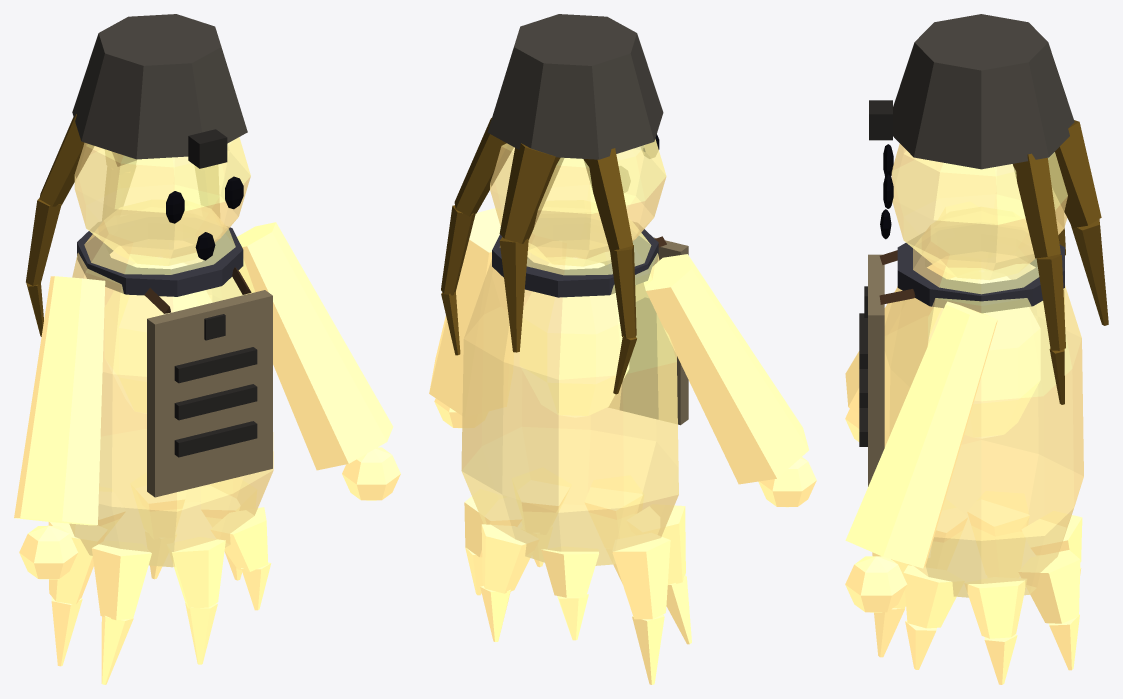
Rendered from soul_day_number.glb.
3 renders of one model, left to right at view 1: azimuth 30°, elevation 25°; view 2: azimuth 150°, elevation 25°; view 3: azimuth 270°, elevation 25°, orthographic. The views are drawn at different scales.
Visible parts, largest first — view 1: soul_day_number; view 2: soul_day_number; view 3: soul_day_number.
Boxes of the visible parts, <box> form: soul_day_number: <box>14,14,400,684</box>; soul_day_number: <box>429,14,816,684</box>; soul_day_number: <box>845,14,1108,684</box>.
Bounding box in the file's own units: 0.9481 × 1.49 × 0.5516.
